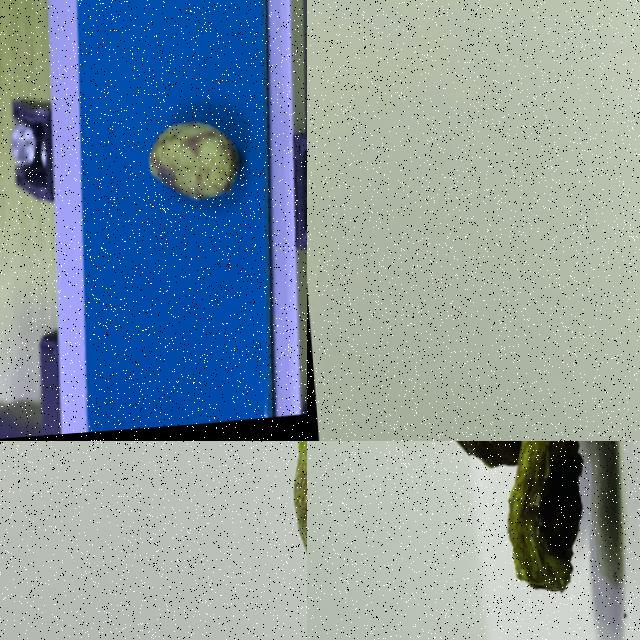Agglomerated_cocoabeans: (354, 441, 639, 639)
Fine_cocoabeans: (113, 25, 279, 290)
